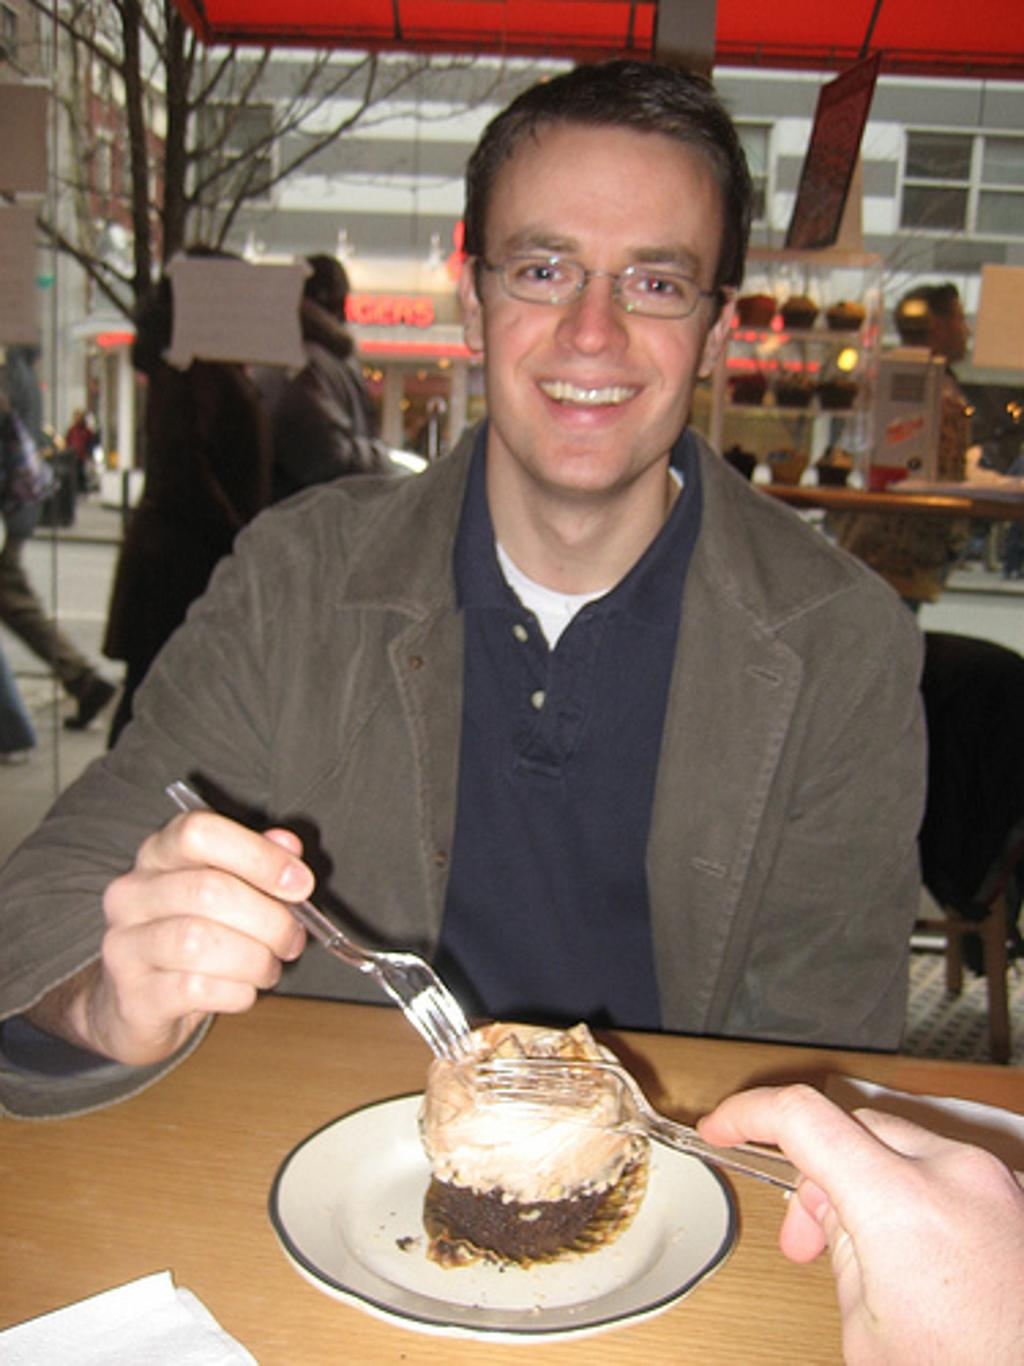face: (480, 129, 722, 491), (933, 301, 970, 359)
